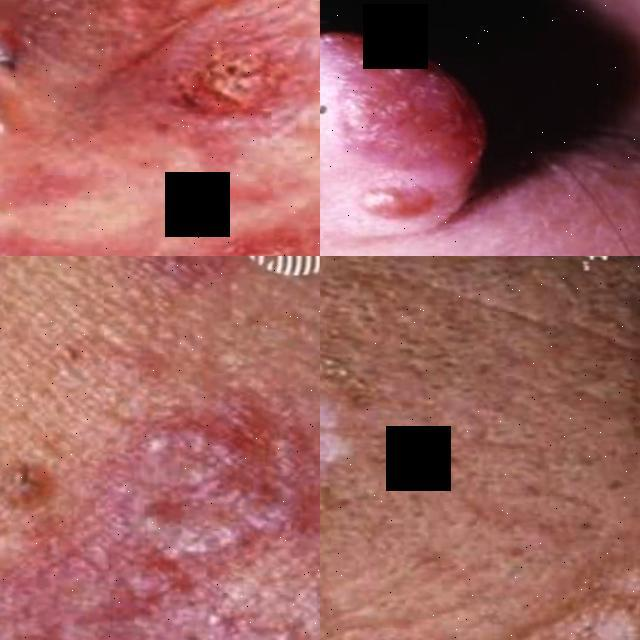lupus-detected: (320, 0, 640, 256), (0, 405, 320, 640), (320, 256, 428, 640), (142, 0, 307, 204), (0, 195, 320, 256), (101, 256, 268, 371), (472, 551, 640, 640), (604, 317, 640, 507)
